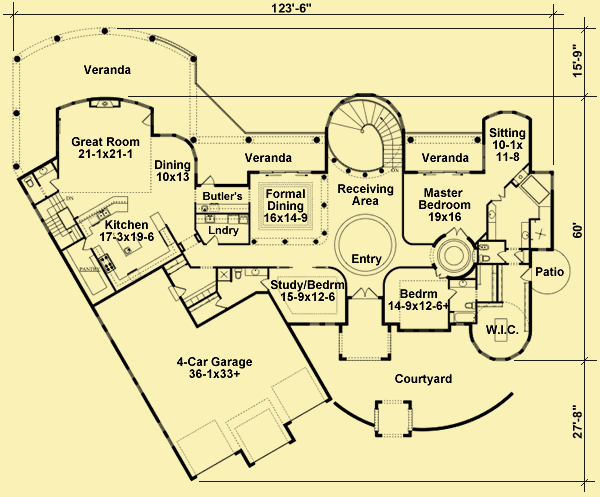door: (351, 286, 379, 300), (445, 226, 467, 240), (200, 173, 216, 188), (493, 188, 508, 203), (203, 234, 220, 246), (173, 284, 188, 297), (214, 296, 227, 310)
large_sink: (22, 175, 37, 190), (232, 268, 245, 284), (478, 252, 492, 264), (463, 300, 476, 310)
small_sink: (519, 221, 532, 250), (244, 266, 269, 278), (448, 280, 476, 290), (34, 164, 53, 177), (488, 202, 497, 224)
stairs: (329, 97, 403, 174), (36, 195, 83, 247)
